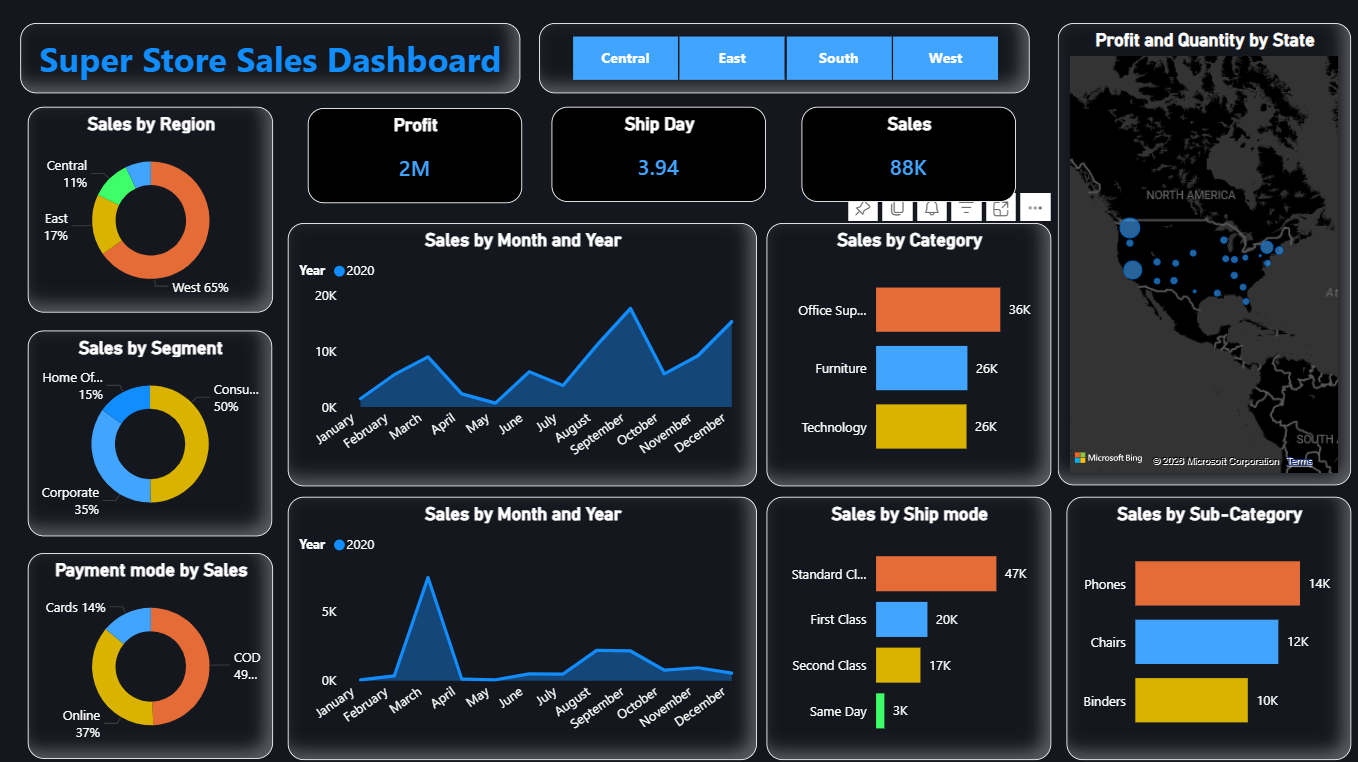

Layout of this report page (visuals, bound fields, positions):
{"tool":"powerbi","page":{"name":"Page 1","canvas":[1280,720],"ordinal":0},"visuals":[{"type":"clusteredBarChart","title":" Sales by Category","fields":{"Y":["Sum(Sheet1.Sales)"],"Category":["Sheet1.Category"]},"box":[720.3,214.1,265.6,245.3],"z":0},{"type":"clusteredBarChart","title":" Sales by Sub-Category","fields":{"Y":["Sum(Sheet1.Sales)"],"Category":["Sheet1.Sub-Category"]},"box":[1000,470.3,265.6,245.3],"z":1000},{"type":"clusteredBarChart","title":" Sales by Ship mode","fields":{"Y":["Sum(Sheet1.Sales)"],"Category":["Sheet1.Ship Mode"]},"box":[720.3,470.3,265.6,245.3],"z":2000},{"type":"stackedAreaChart","title":"Sales by Month and Year","fields":{"Category":["Sheet1.Order Date.Variation.Date Hierarchy.Month"],"Y":["Sum(Sheet1.Sales)"],"Series":["Sheet1.Order Date.Variation.Date Hierarchy.Year"]},"box":[273.4,214.1,437.5,245.3],"z":3000},{"type":"stackedAreaChart","title":"Sales by Month and Year","fields":{"Category":["Sheet1.Order Date.Variation.Date Hierarchy.Month"],"Series":["Sheet1.Order Date.Variation.Date Hierarchy.Year"],"Y":["Sum(Sheet1.Profit)"]},"box":[273.4,470.3,437.5,245.3],"z":4000},{"type":"map","title":" Profit and  Quantity by State","fields":{"Category":["Sheet1.State"],"Size":["Sum(Sheet1.Profit)"]},"box":[992.2,28.1,273.4,431.2],"z":5000},{"type":"donutChart","title":"Sales by Segment","fields":{"Category":["Sheet1.Segment"],"Y":["Sum(Sheet1.Sales)"]},"box":[31.6,314.2,227.8,192.1],"z":6000},{"type":"donutChart","title":"Payment mode  by Sales","fields":{"Y":["Sum(Sheet1.Sales)"],"Category":["Sheet1.Payment Mode"]},"box":[31.6,522.8,229.2,192.1],"z":7000},{"type":"slicer","fields":{"Values":["Sheet1.Region"]},"box":[507.8,28.1,457.8,65.6],"z":8000},{"type":"textbox","box":[24.7,27.4,466.6,65.9],"z":9000},{"type":"cardVisual","title":"Sales","fields":{"Data":["Sum(Sheet1.Sales)"]},"box":[753.1,106.2,200,89.1],"z":10000},{"type":"cardVisual","title":"Profit","fields":{"Data":["Sum(Sheet1.Row ID+O6G3A1:R6)"]},"box":[292.2,107.8,200,89.1],"z":11000},{"type":"donutChart","title":"Sales by Region","fields":{"Y":["Count(Sheet1.Sales)"],"Category":["Sheet1.Region"]},"box":[31.6,105.7,229.2,192.1],"z":12000},{"type":"cardVisual","title":"Ship Day","fields":{"Data":["Avg(Sheet1.Quantity)"]},"box":[520.3,106.2,200,89.1],"z":12001}]}

Visuals, with their boxes in screenshot pixels (x1, y1, x2, y2), scaled from the page's 1280x720 canvas onto the 1358x762 screenshot:
" Sales by Category" clusteredBarChart: crop(764, 227, 1046, 486)
" Sales by Sub-Category" clusteredBarChart: crop(1061, 498, 1343, 757)
" Sales by Ship mode" clusteredBarChart: crop(764, 498, 1046, 757)
"Sales by Month and Year" stackedAreaChart: crop(290, 227, 754, 486)
"Sales by Month and Year" stackedAreaChart: crop(290, 498, 754, 757)
" Profit and  Quantity by State" map: crop(1053, 30, 1343, 486)
"Sales by Segment" donutChart: crop(34, 333, 275, 536)
"Payment mode  by Sales" donutChart: crop(34, 553, 277, 757)
slicer - Sheet1.Region: crop(539, 30, 1024, 99)
textbox: crop(26, 29, 521, 99)
"Sales" cardVisual: crop(799, 112, 1011, 207)
"Profit" cardVisual: crop(310, 114, 522, 208)
"Sales by Region" donutChart: crop(34, 112, 277, 315)
"Ship Day" cardVisual: crop(552, 112, 764, 207)
